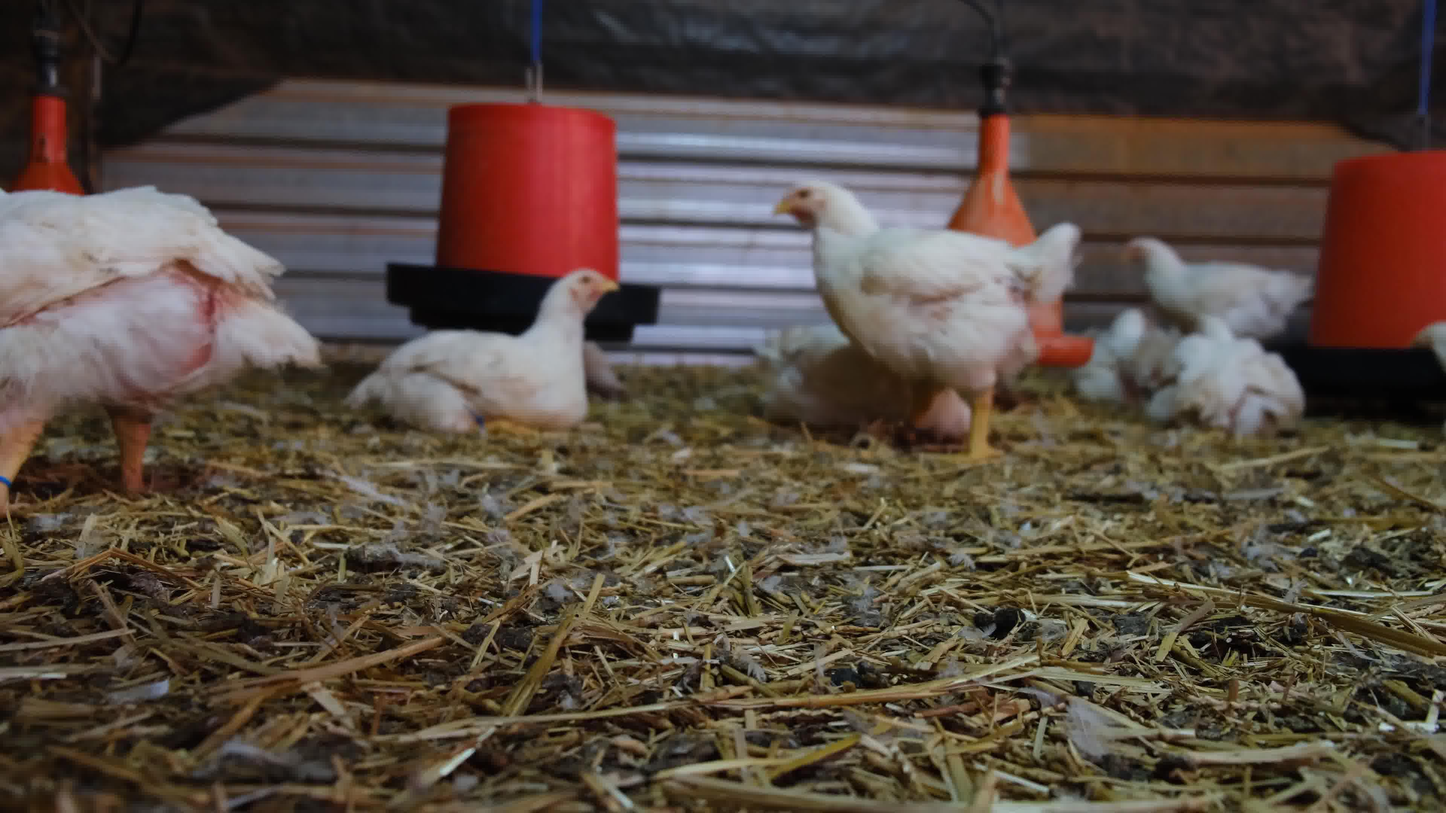AbNormal: (356, 262, 638, 455), (747, 316, 947, 444), (1158, 303, 1316, 450)
Normal: (4, 164, 337, 527), (749, 167, 1105, 444), (1118, 220, 1329, 354)
